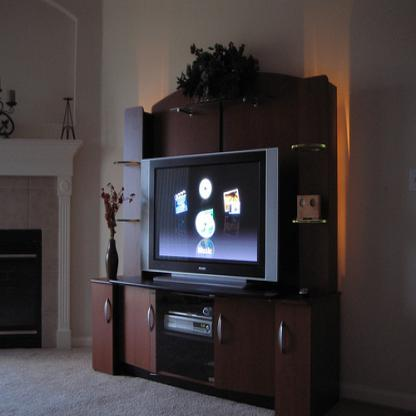tvmonitor: (139, 144, 278, 288)
